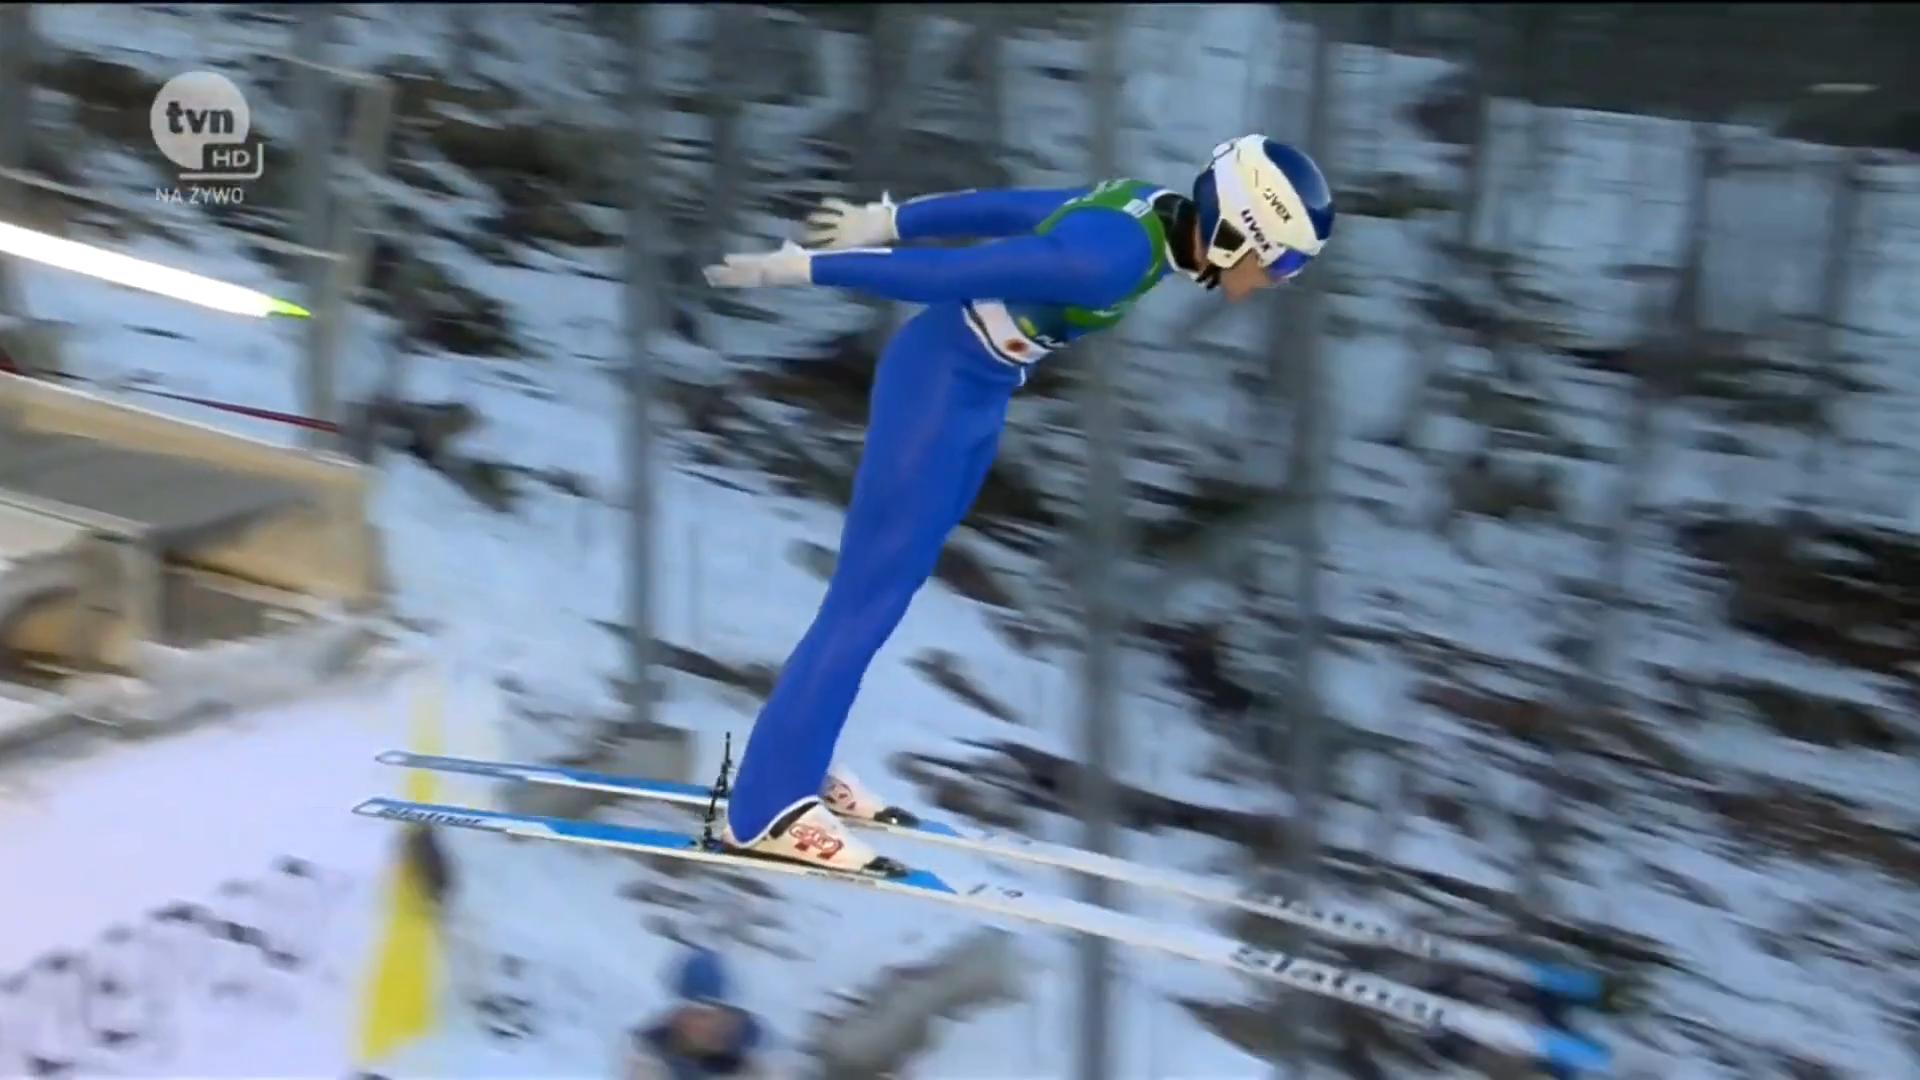prog: (30, 488, 310, 570)
